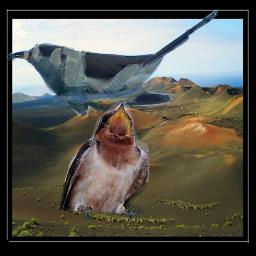Cuckoo: (7, 9, 224, 117)
Swallow: (60, 102, 149, 221)
